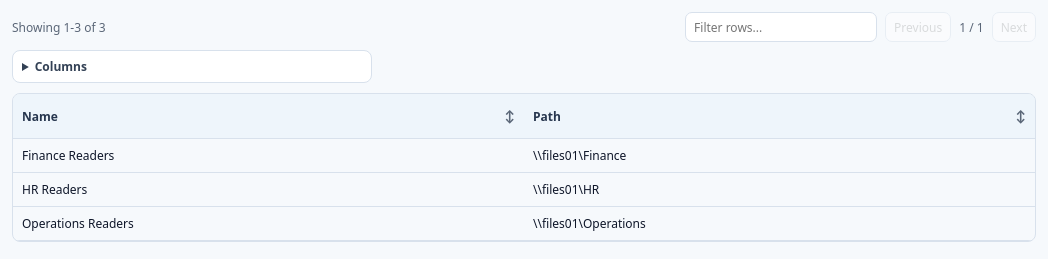
it: VirtualTable › filters rows locally without relying on the global dashboard search
Type "finance" into the search field named "Filter Permissioned groups rows".
click(781, 27); type("finance")  # box [685,12,877,42]
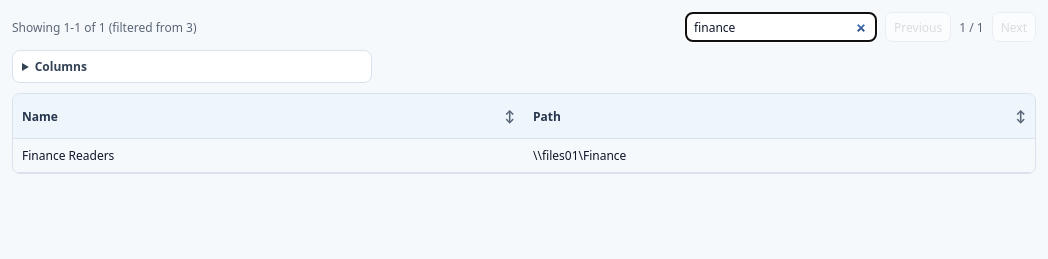
Expected: the text "Finance Readers" is shown, [13,138,524,172]
Result: the text "Showing 1-1 of 1 (filtered from 3)" is shown at [12,18,197,36]
Result: the text "HR Readers" is gone
